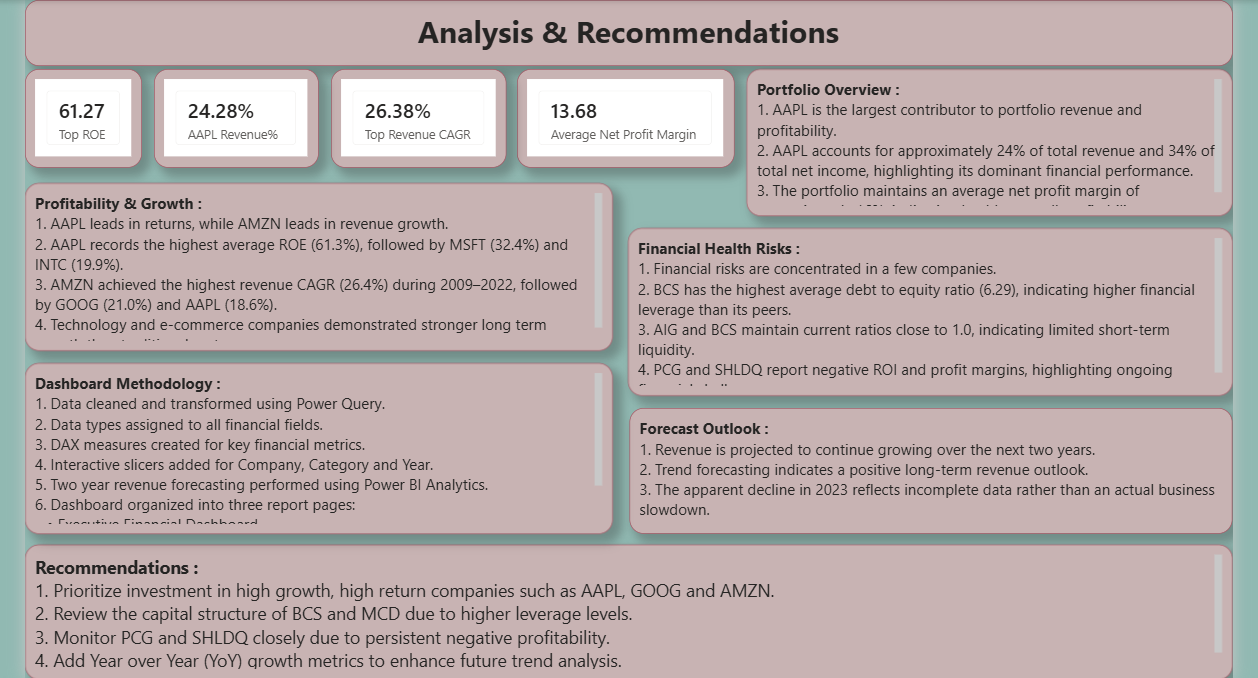

This screenshot's page, from the dashboard's own definition file:
{"tool":"powerbi","page":{"name":"Page 3","canvas":[1280,720],"ordinal":2},"visuals":[{"type":"textbox","box":[0,0,1280.4,70],"z":0},{"type":"cardVisual","fields":{"Data":["Financial Statement.Top ROE"]},"box":[0,73.2,124.1,105],"z":1000},{"type":"cardVisual","fields":{"Data":["Financial Statement.Average Net Profit Margin"]},"box":[522.1,73.2,230.6,105],"z":2000},{"type":"cardVisual","fields":{"Data":["Financial Statement.Top Revenue CAGR"]},"box":[323.7,73.2,186.1,105],"z":3000},{"type":"cardVisual","fields":{"Data":["Financial Statement.AAPL Revenue %"]},"box":[136.4,73.2,175,105],"z":4000},{"type":"textbox","box":[764.6,73.2,515.4,155.9],"z":5000},{"type":"textbox","box":[0,194.1,623.5,178.1],"z":6000},{"type":"textbox","box":[639.4,241.8,641,178.1],"z":7000},{"type":"textbox","box":[641,432.6,639.4,133.6],"z":8000},{"type":"textbox","box":[0,577.4,1280.4,143.2],"z":9000},{"type":"textbox","box":[0,384.9,623.5,181.3],"z":10000}]}

Visuals, with their boxes on the page's 1280x720 design canvas (x1, y1, x2, y2). These are canvas units, not pixel positions in the 1258x678 screenshot, which may show the page scaled, cropped or inside an application window:
textbox: <bbox>0, 0, 1280, 70</bbox>
cardVisual - Financial Statement.Top ROE: <bbox>0, 73, 124, 178</bbox>
cardVisual - Financial Statement.Average Net Profit Margin: <bbox>522, 73, 753, 178</bbox>
cardVisual - Financial Statement.Top Revenue CAGR: <bbox>324, 73, 510, 178</bbox>
cardVisual - Financial Statement.AAPL Revenue %: <bbox>136, 73, 311, 178</bbox>
textbox: <bbox>765, 73, 1280, 229</bbox>
textbox: <bbox>0, 194, 624, 372</bbox>
textbox: <bbox>639, 242, 1280, 420</bbox>
textbox: <bbox>641, 433, 1280, 566</bbox>
textbox: <bbox>0, 577, 1280, 721</bbox>
textbox: <bbox>0, 385, 624, 566</bbox>
